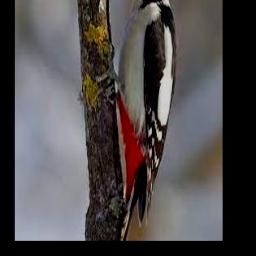Woodpecker: (101, 0, 177, 241)
